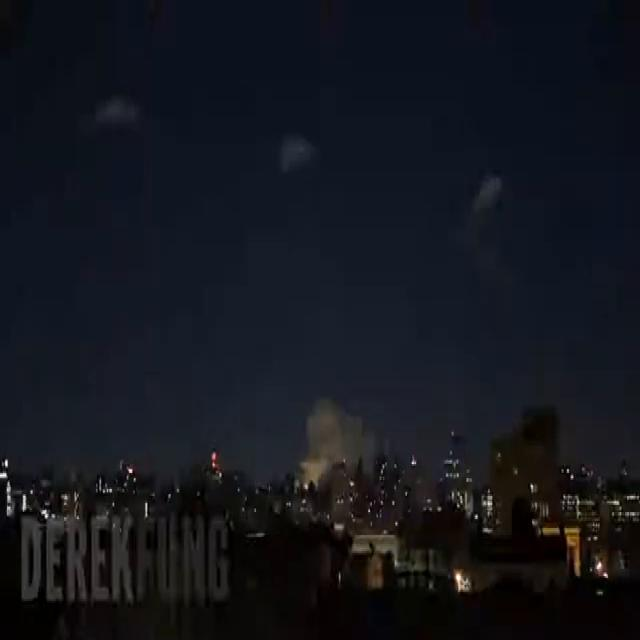smoke: (297, 395, 384, 484), (298, 396, 375, 485)
